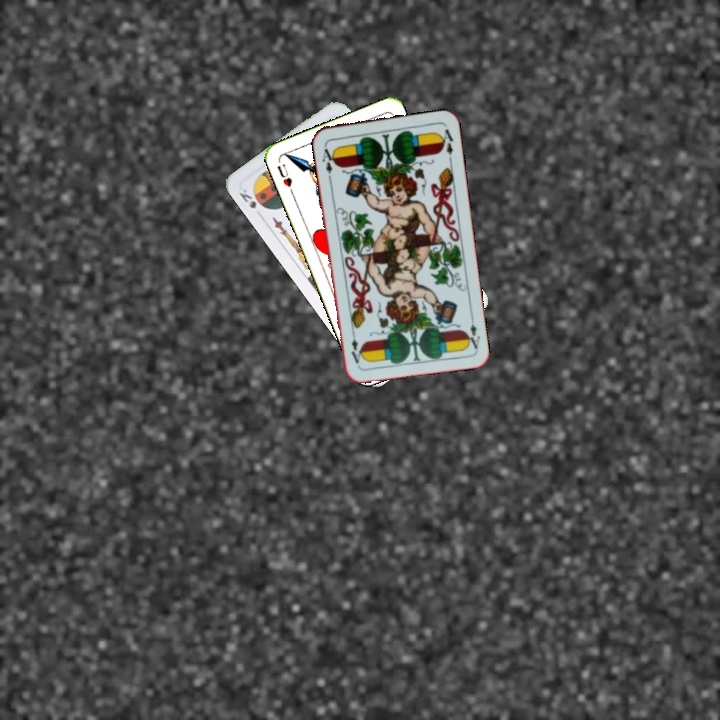EA: (462, 311, 483, 351), (318, 140, 338, 181)
HU: (273, 160, 296, 196)
SK: (235, 185, 268, 211)
